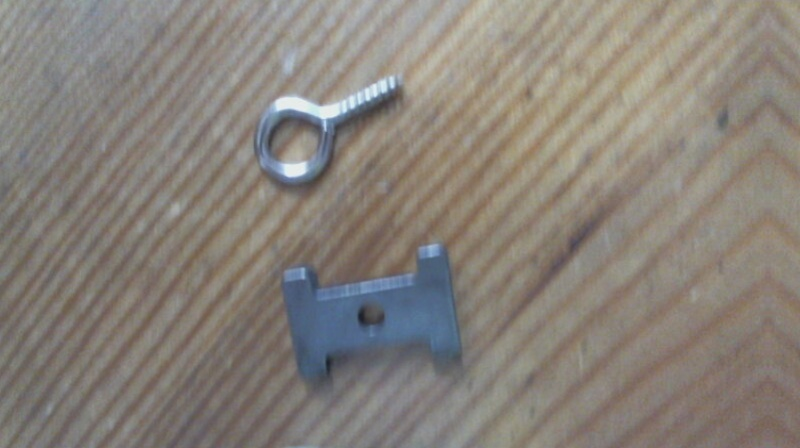O001: (245, 67, 415, 188)
O002: (276, 241, 468, 386)
